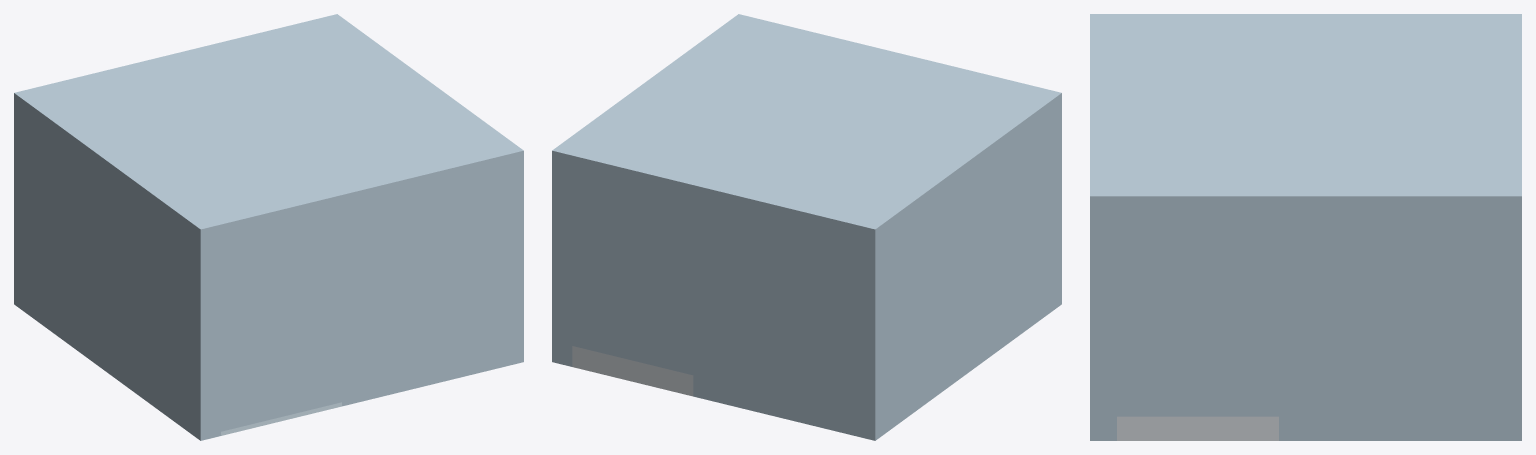
The model's file is frozen-slide-spring-mirror.glb.
3 renders of one model, left to right at view 1: azimuth 30°, elevation 25°; view 2: azimuth 150°, elevation 25°; view 3: azimuth 270°, elevation 25°, orthographic. The views are drawn at different scales.
Parts seen in each view (by area): view 1: ice-rock_10, ice-rock_4, ice-rock_6, plug_slide_south, ice-rock_3, ice-rock_5, ice-rock_9, ice-rock_1, plug_slide_south.001, ice_2; view 2: ice-rock_10, ice-rock_1, ice-rock_4, plug_ice_north, ice-rock_7, ice-rock_3, ice-rock_2, snow_1; view 3: ice-rock_10, ice-rock_2, plug_ice_east, ice-rock_8, ice-rock_6, snow_4.
Boxes of the visible parts, x1=… form: ice-rock_10: x1=14, y1=14, x2=523, y2=250; ice-rock_4: x1=49, y1=140, x2=220, y2=440; ice-rock_6: x1=362, y1=172, x2=523, y2=401; plug_slide_south: x1=221, y1=237, x2=341, y2=414; ice-rock_3: x1=25, y1=123, x2=48, y2=329; ice-rock_5: x1=342, y1=211, x2=362, y2=406; ice-rock_9: x1=221, y1=216, x2=341, y2=266; ice-rock_1: x1=14, y1=114, x2=25, y2=312; plug_slide_south.001: x1=221, y1=385, x2=341, y2=431; ice_2: x1=221, y1=402, x2=341, y2=435; ice-rock_10: x1=552, y1=14, x2=1061, y2=250; ice-rock_1: x1=693, y1=206, x2=886, y2=440; ice-rock_4: x1=910, y1=114, x2=1061, y2=414; plug_ice_north: x1=572, y1=219, x2=693, y2=375; ice-rock_7: x1=572, y1=177, x2=693, y2=248; ice-rock_3: x1=887, y1=225, x2=910, y2=431; ice-rock_2: x1=552, y1=172, x2=572, y2=366; snow_1: x1=572, y1=346, x2=693, y2=396; ice-rock_10: x1=1090, y1=14, x2=1521, y2=220; ice-rock_2: x1=1279, y1=221, x2=1521, y2=440; plug_ice_east: x1=1117, y1=269, x2=1278, y2=416; ice-rock_8: x1=1117, y1=221, x2=1278, y2=269; ice-rock_6: x1=1090, y1=221, x2=1116, y2=440; snow_4: x1=1117, y1=416, x2=1278, y2=440.
Size of the model in its own units: 8 by 5 by 8.
